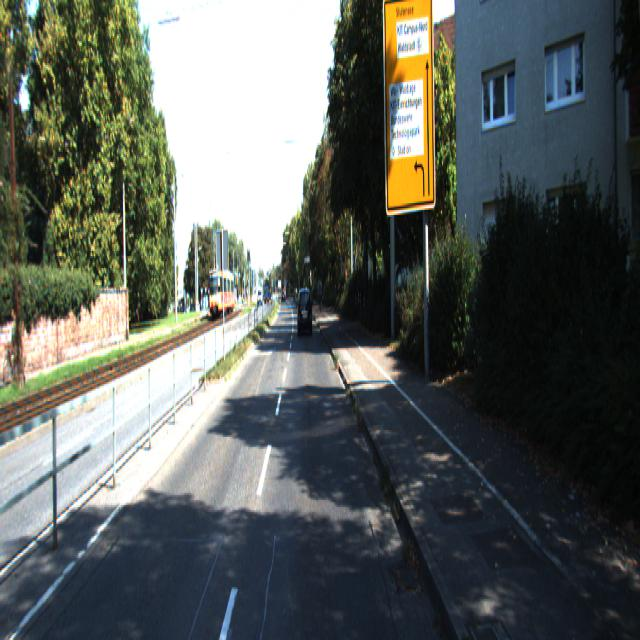Car: (209, 269, 236, 320), (298, 291, 313, 340)
